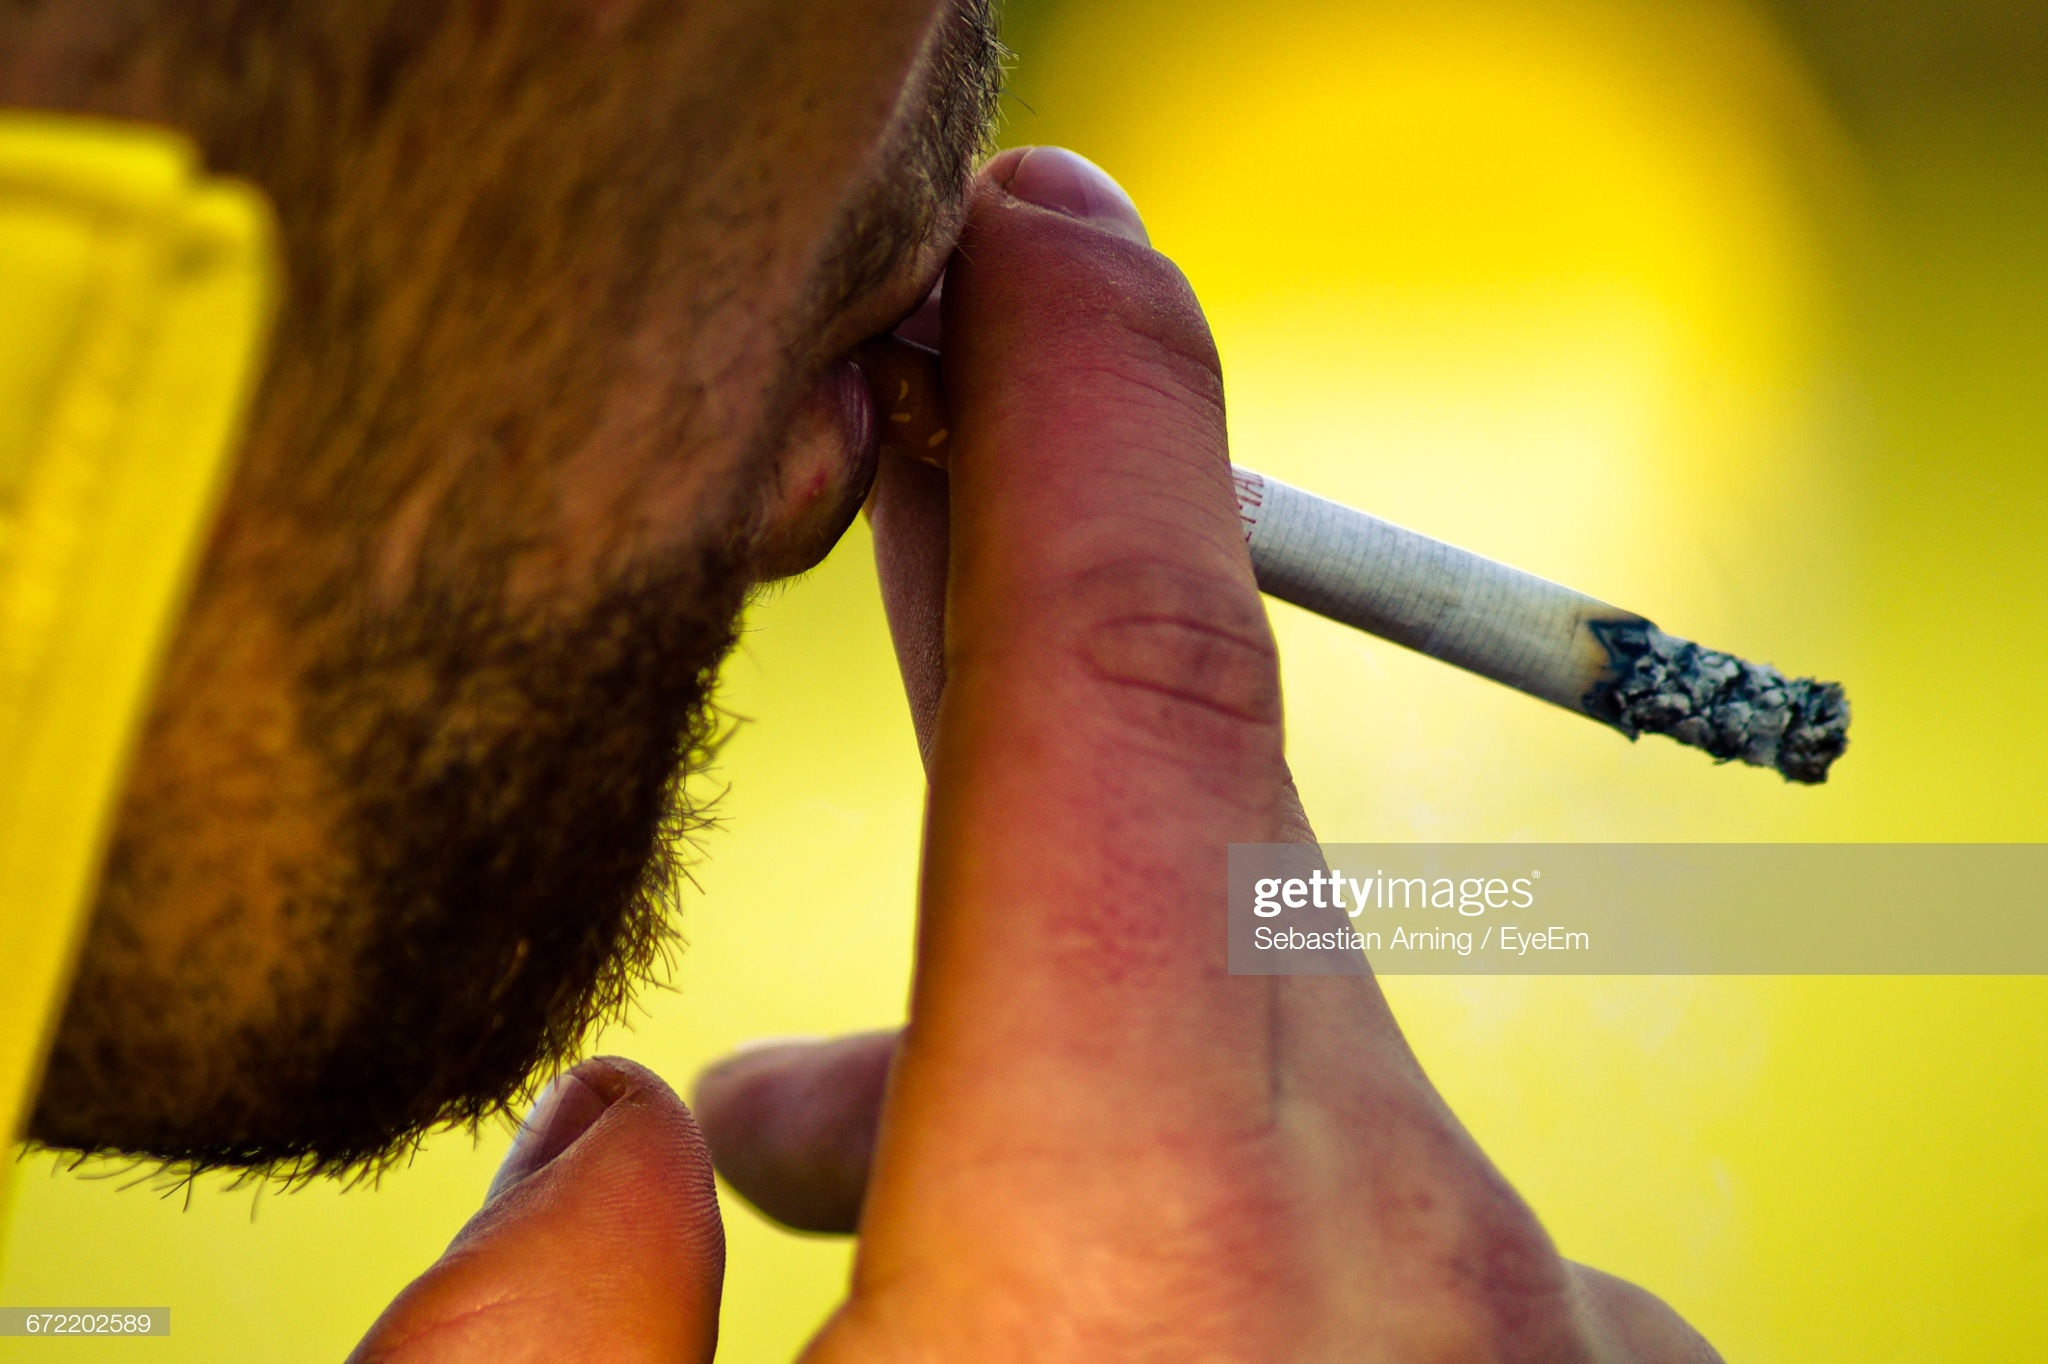sigaretta: (1022, 423, 1833, 760)
